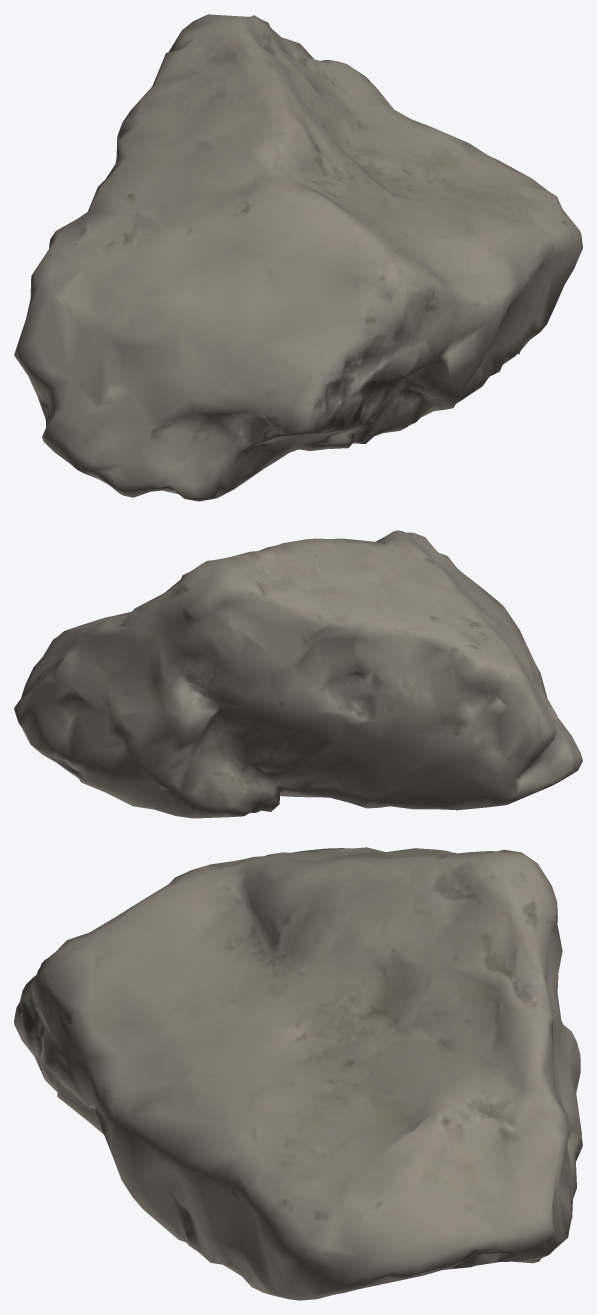
File: moon_rock_03.glb
The picture shows the model from 3 angles, top to bottom: view 1: azimuth 30°, elevation 25°; view 2: azimuth 150°, elevation 25°; view 3: azimuth 270°, elevation 25°; orthographic projection. The views are drawn at different scales.
Parts seen in each view (by area): view 1: moon_rock_03_LOD0; view 2: moon_rock_03_LOD0; view 3: moon_rock_03_LOD0.
Part boxes in pixels (left/top/right/bottom): moon_rock_03_LOD0: left=14, top=14, right=582, bottom=501; moon_rock_03_LOD0: left=14, top=530, right=582, bottom=818; moon_rock_03_LOD0: left=14, top=847, right=582, bottom=1300.
Size of the model in its own units: 0.112 by 0.0582 by 0.0861.
Materials: 1 (1 with a texture image).
